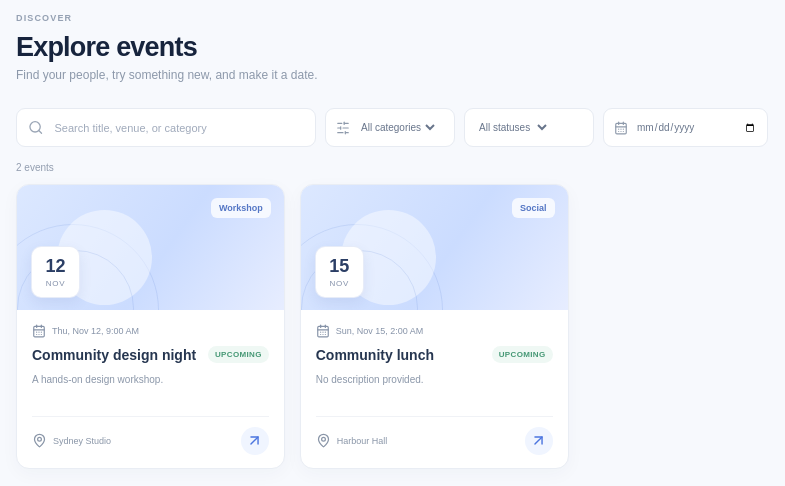
Test: event API pages › loads and displays events, then filters the returned data by category
This screenshot has width=785, height=486.
Expected: the heading "Community design night" is shown, [32,346,196,365]
Expected: the heading "Community lunch" is shown, [316,346,434,365]
Select "Workshop" in the dropdown named "Filter by category" at coordinates (398, 128), box [357,121,438,134]
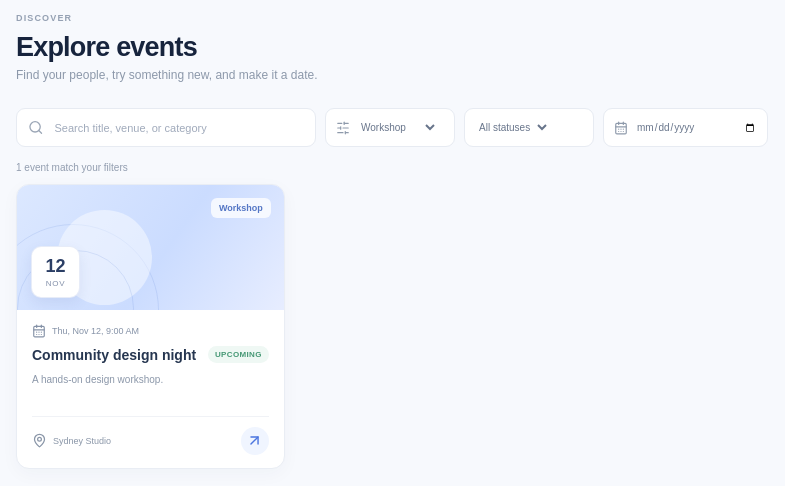
Expected: the heading "Community design night" is shown, [32,346,196,365]
Result: the heading "Community lunch" is gone
